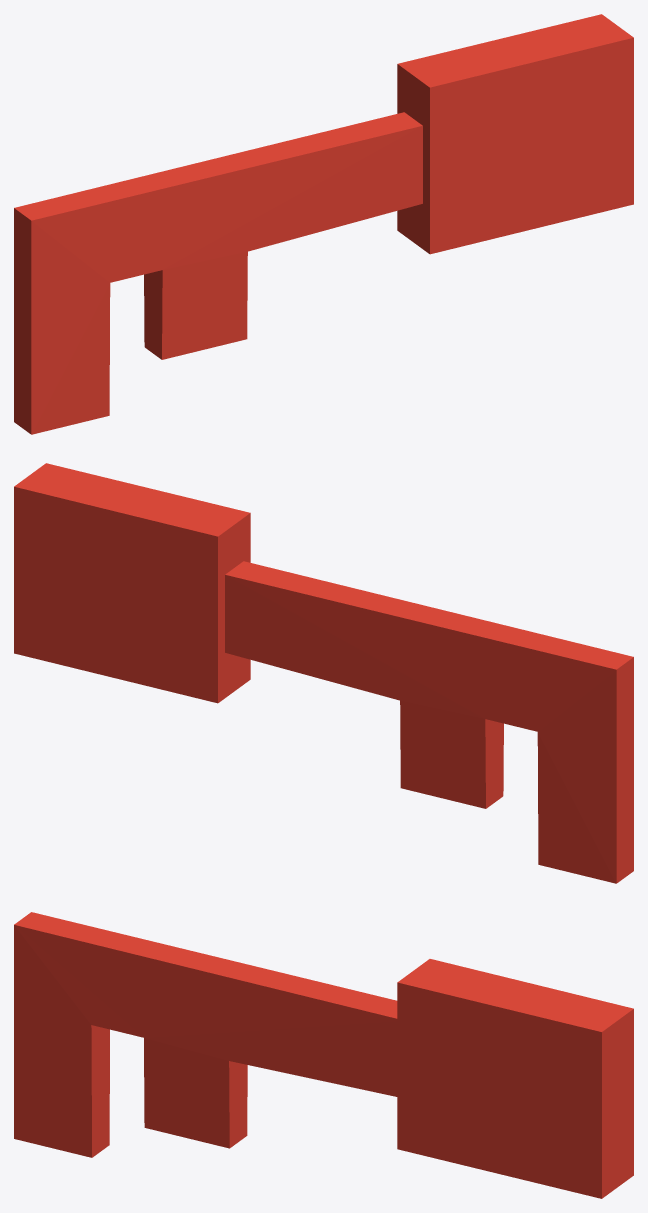
File: SM_Key_01.fbx
The picture shows the model from 3 angles, top to bottom: view 1: azimuth 30°, elevation 25°; view 2: azimuth 150°, elevation 25°; view 3: azimuth 330°, elevation 25°; orthographic projection.
Parts seen in each view (by area): view 1: pCube736; view 2: pCube736; view 3: pCube736.
Part boxes in pixels (x1,y1,x2,y2): pCube736: (14, 14, 633, 434); pCube736: (14, 463, 633, 883); pCube736: (14, 912, 633, 1198).
Size of the model in its own units: 52.32 by 21.61 by 4.95.
Materials: 1 (1 with a texture image).
